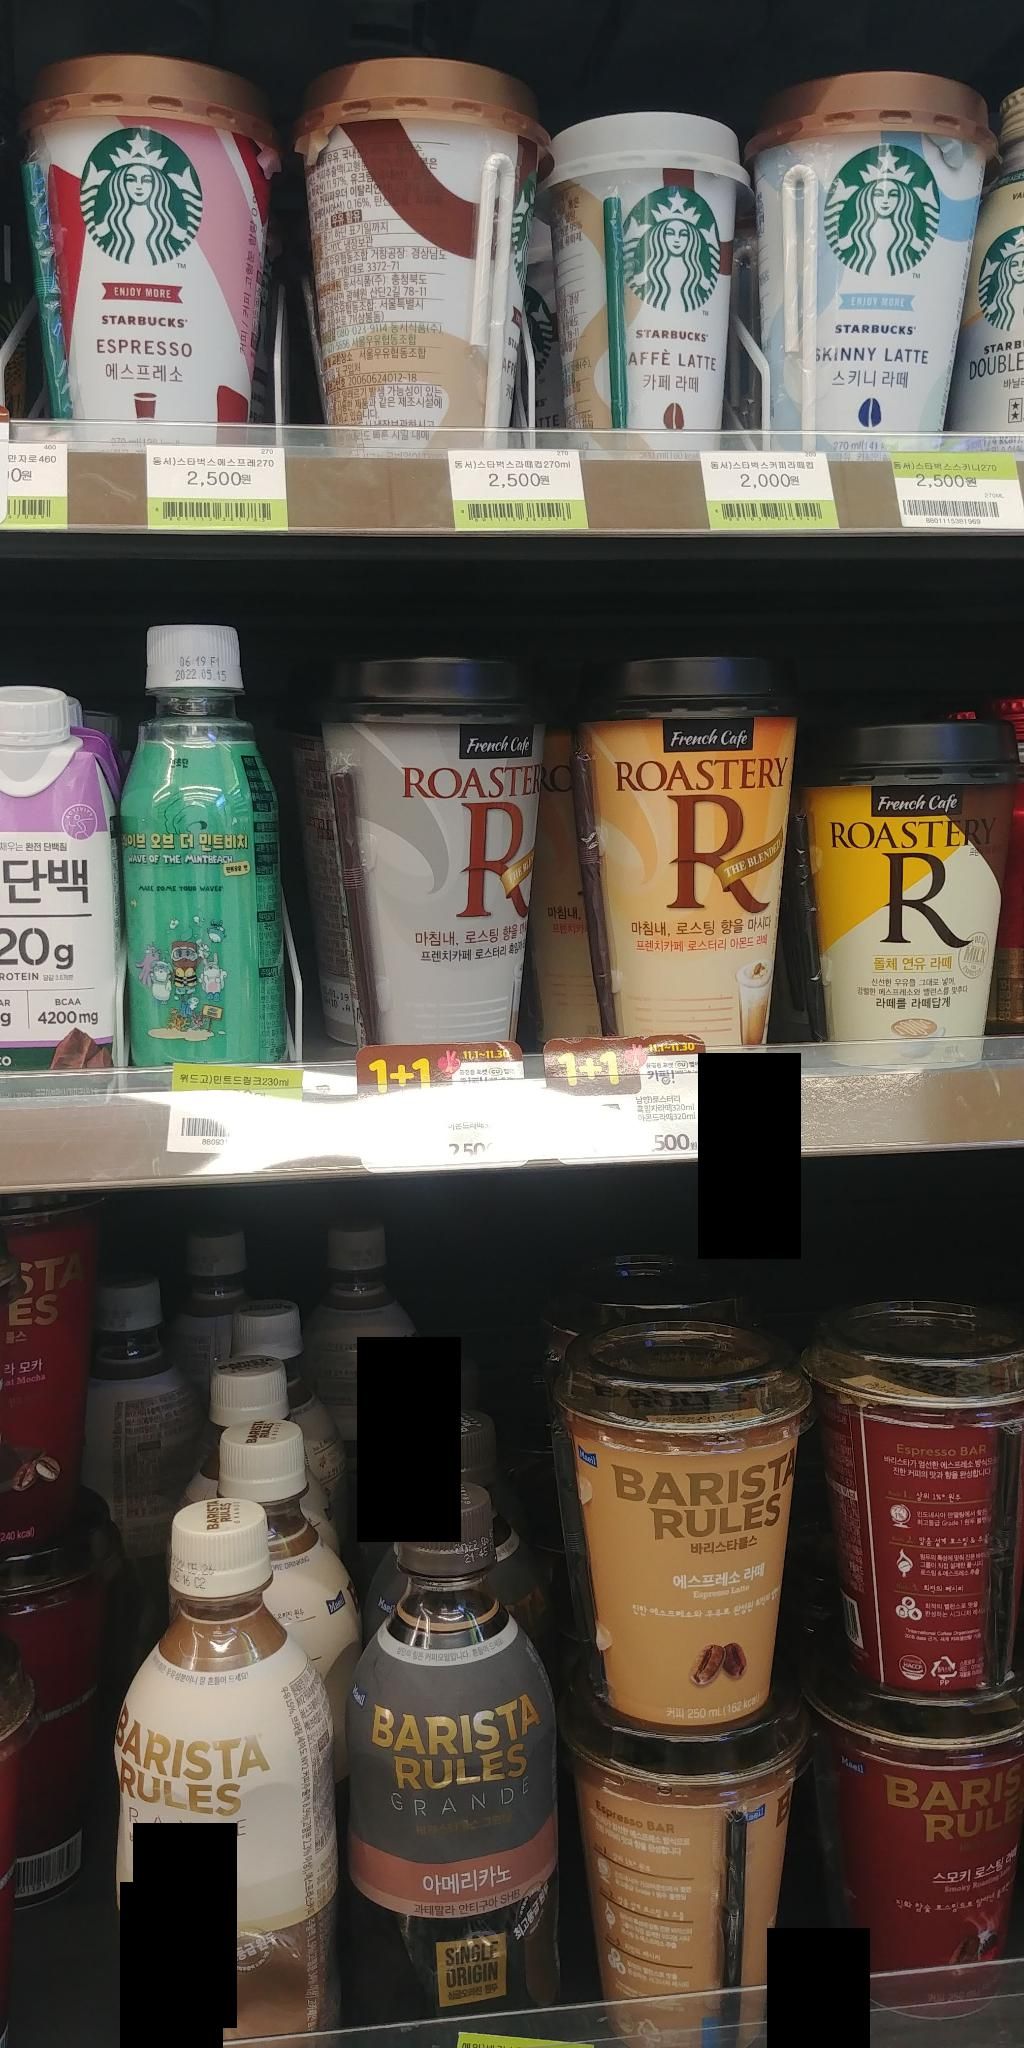baristarules_espressolatte: (563, 1319, 827, 1727)
starbucks_cafelatte: (307, 38, 536, 444)
